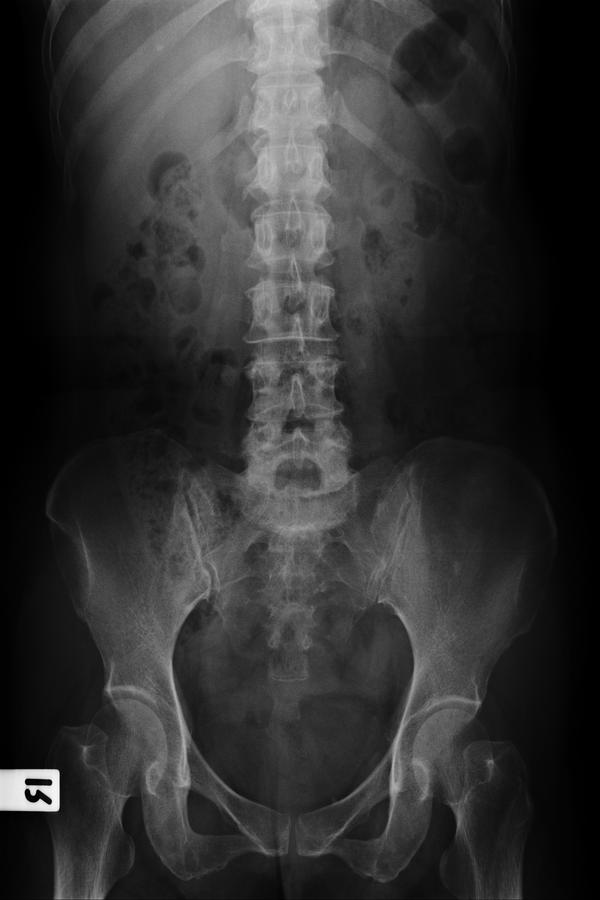lumbar scoliosis: (229, 2, 361, 518)
